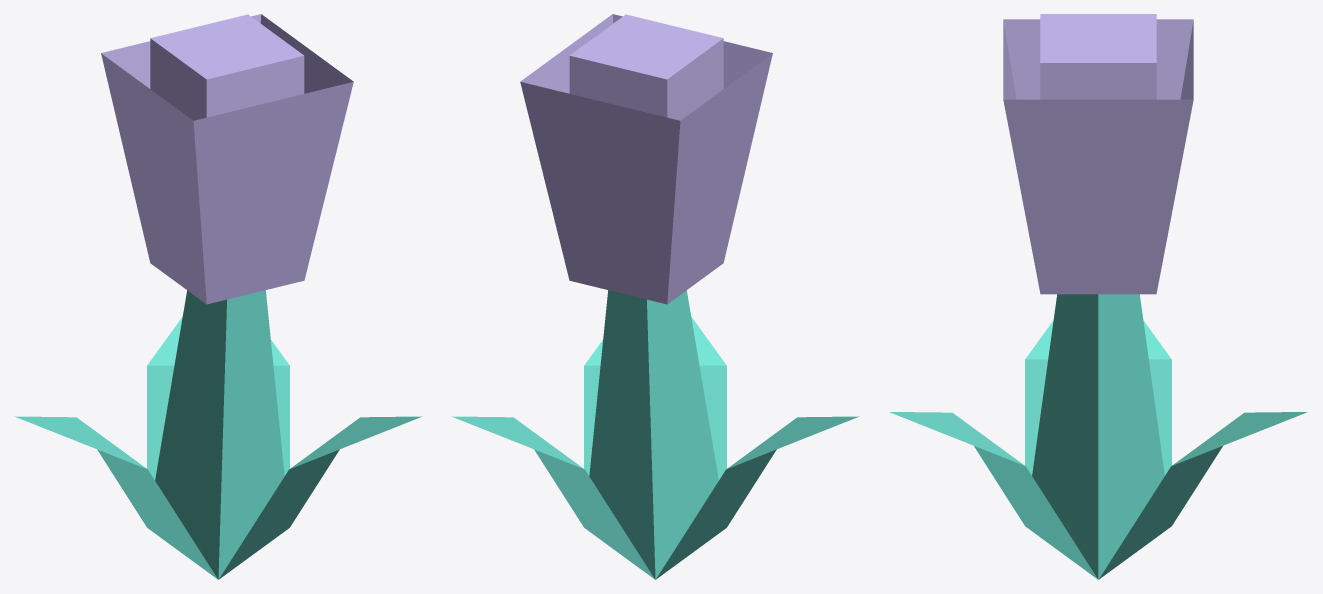
The model's file is flower_purpleA.glb.
3 views of the same model, side by side, from view 1: azimuth 30°, elevation 25°; view 2: azimuth 150°, elevation 25°; view 3: azimuth 270°, elevation 25° (orthographic). The views are drawn at different scales.
Visible parts, largest first — view 1: flower_purpleA; view 2: flower_purpleA; view 3: flower_purpleA.
Part boxes in pixels (x1=…): flower_purpleA: x1=15, y1=14, x2=422, y2=579; flower_purpleA: x1=451, y1=14, x2=859, y2=579; flower_purpleA: x1=889, y1=14, x2=1307, y2=579.
Size of the model in its own units: 0.1591 by 0.2425 by 0.1811.
